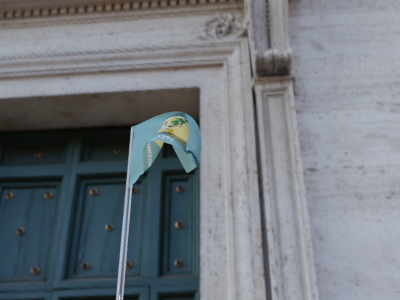Delaware flag: (129, 108, 202, 191)
